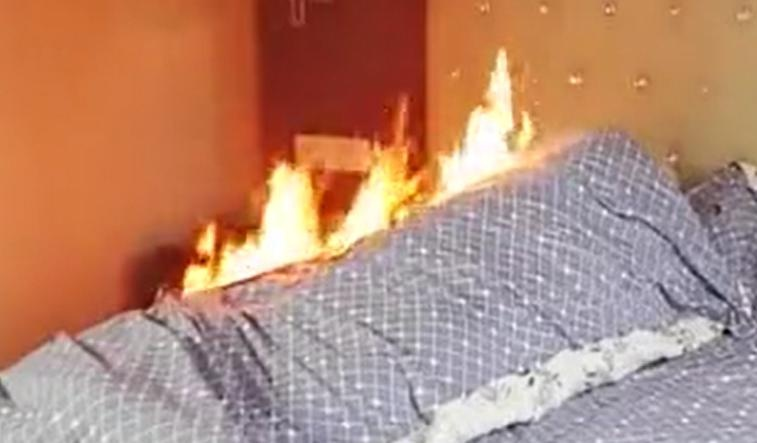fire: (176, 155, 323, 294), (432, 44, 545, 200)
